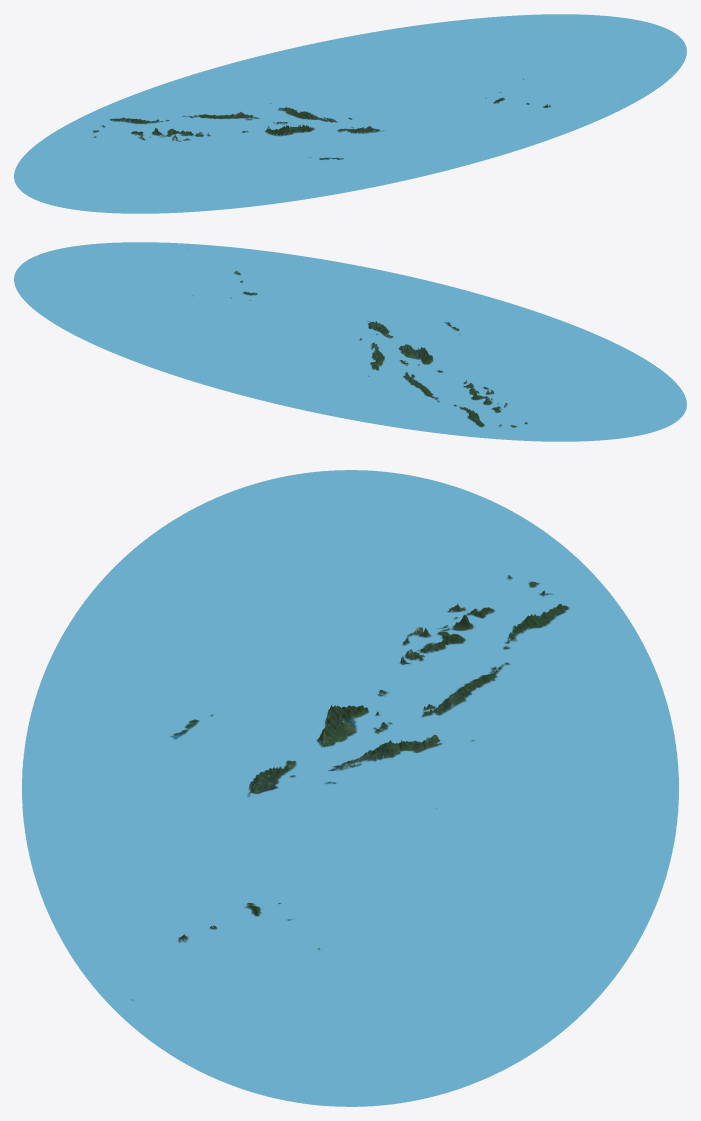
Rendered from SLB-previa-terrain.glb.
3 views of the same model, one above another, from view 1: azimuth 30°, elevation 25°; view 2: azimuth 150°, elevation 25°; view 3: azimuth 270°, elevation 25° (orthographic). The views are drawn at different scales.
Parts seen in each view (by area): view 1: Ilhas Salomão; view 2: Ilhas Salomão; view 3: Ilhas Salomão.
Part boxes in pixels (box(x1,y1,x2,y2)): Ilhas Salomão: box(14, 14, 686, 213); Ilhas Salomão: box(14, 242, 686, 441); Ilhas Salomão: box(22, 470, 678, 1106).
Bounding box in the file's own units: 2.63 × 0.0331 × 1.15.
1 material, 1 textured.
